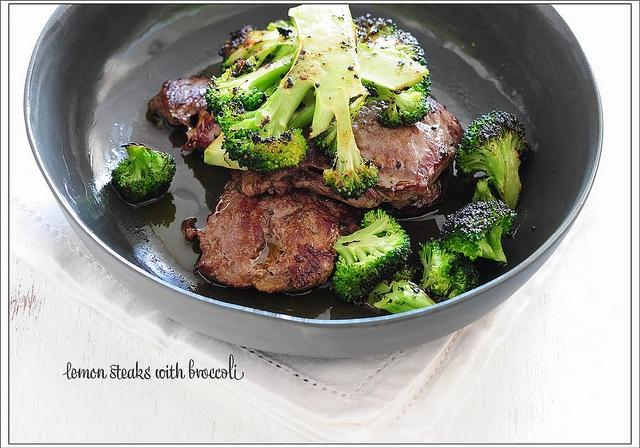broccoli: (454, 110, 533, 212), (333, 208, 410, 305), (440, 201, 518, 264), (416, 236, 482, 304), (218, 20, 298, 72), (111, 142, 177, 204), (373, 279, 436, 314)
